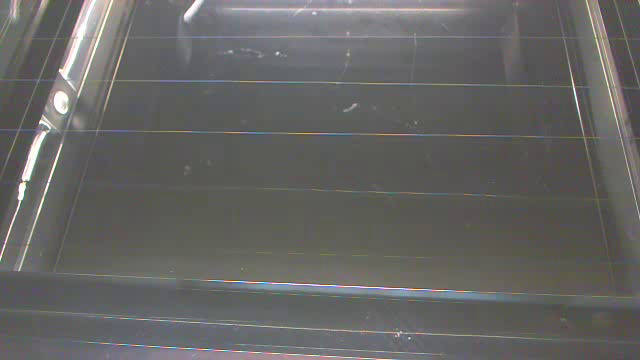alpha: (181, 1, 208, 25), (342, 102, 359, 114)
